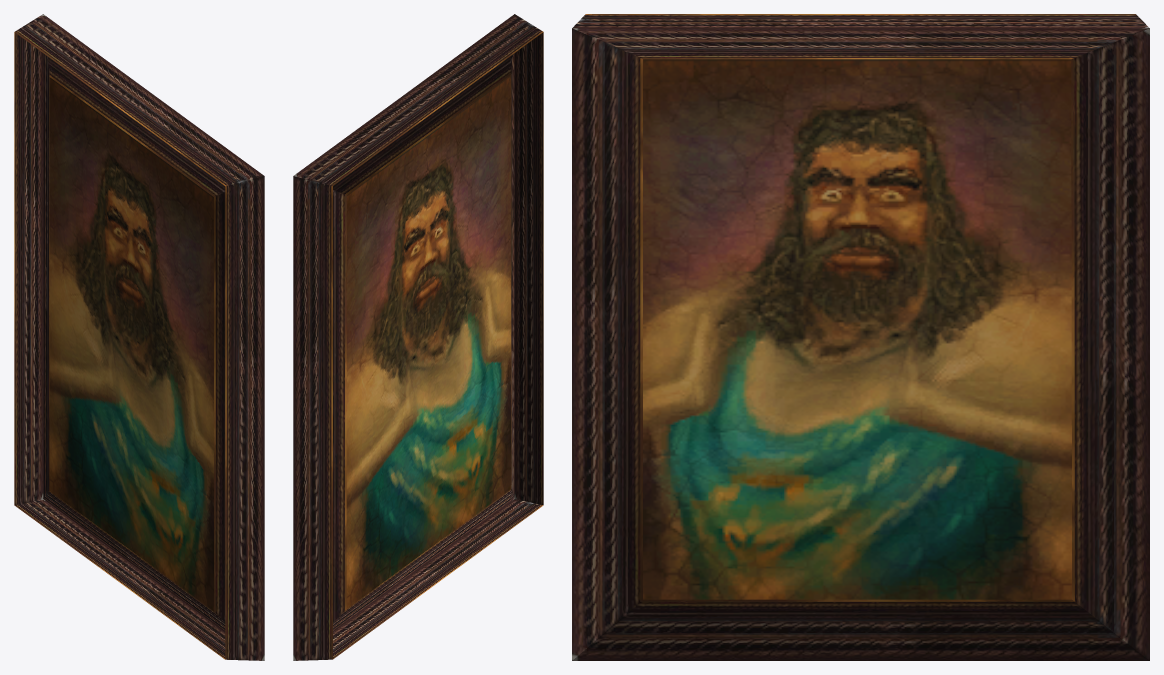
File: painting13.obj
3 renders of one model, left to right at view 1: azimuth 30°, elevation 25°; view 2: azimuth 150°, elevation 25°; view 3: azimuth 270°, elevation 25°, orthographic. The views are drawn at different scales.
Visible parts, largest first — view 1: painting13.m2; view 2: painting13.m2; view 3: painting13.m2.
Boxes of the visible parts, box(x1,y1,x2,y2) form: painting13.m2: box(14, 14, 264, 660); painting13.m2: box(293, 14, 543, 660); painting13.m2: box(572, 14, 1149, 660).
Bounding box in the file's own units: 0.2111 × 2.86 × 2.37.
Materials: 1 (1 with a texture image).
